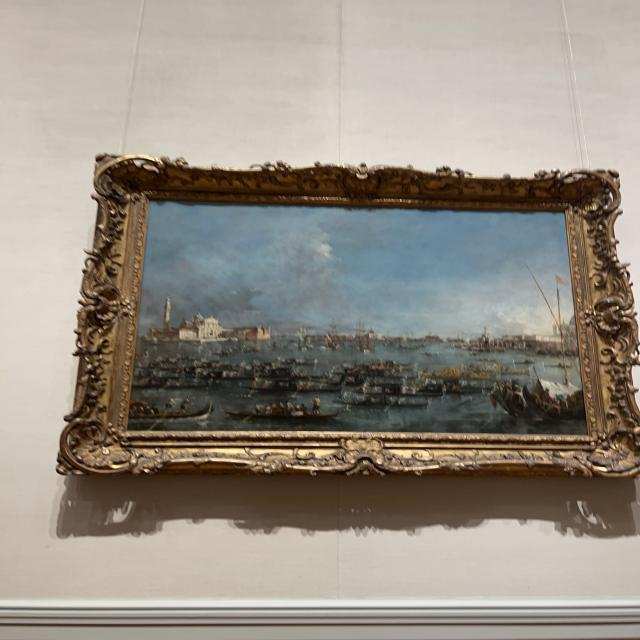ships: (131, 202, 588, 432)
